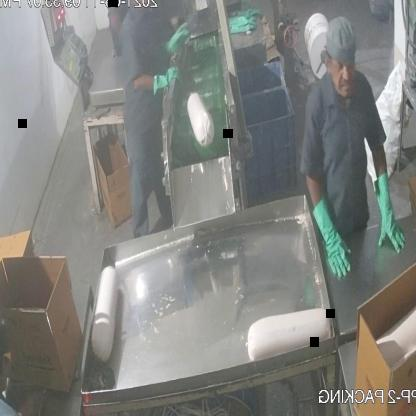glove: (312, 199, 351, 280), (373, 162, 404, 256), (165, 18, 194, 58), (154, 63, 180, 104)
